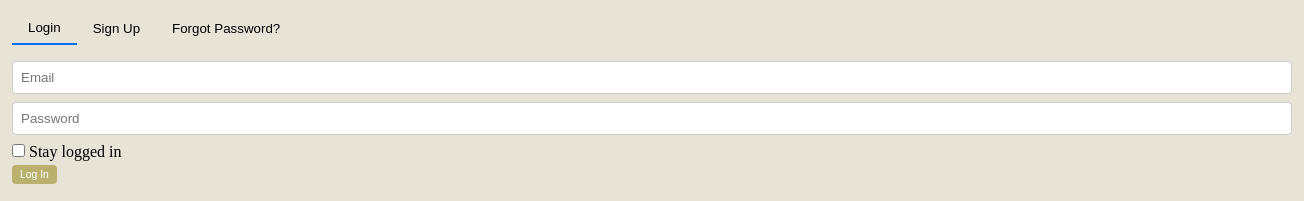
AuthForm › renders forgot password form when Forgot Password button is clicked
Click the button with test id "forgot-password-tab": click(226, 28) [156, 12, 296, 45]
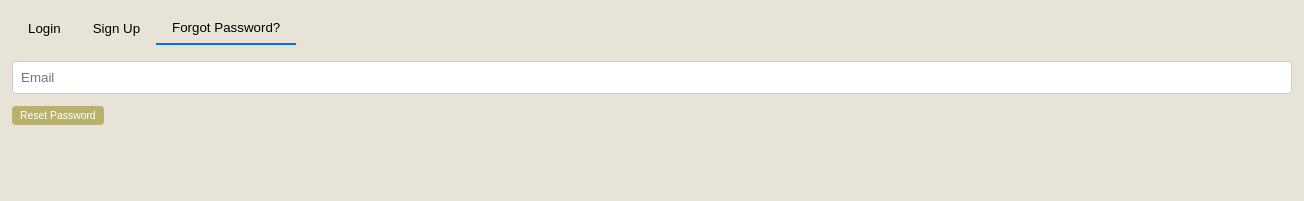
Expected: the field with placeholder "Email" is shown, [12, 61, 1292, 94]
Now the button with test id "forgot-password-submit" is shown, box [12, 106, 104, 125]
